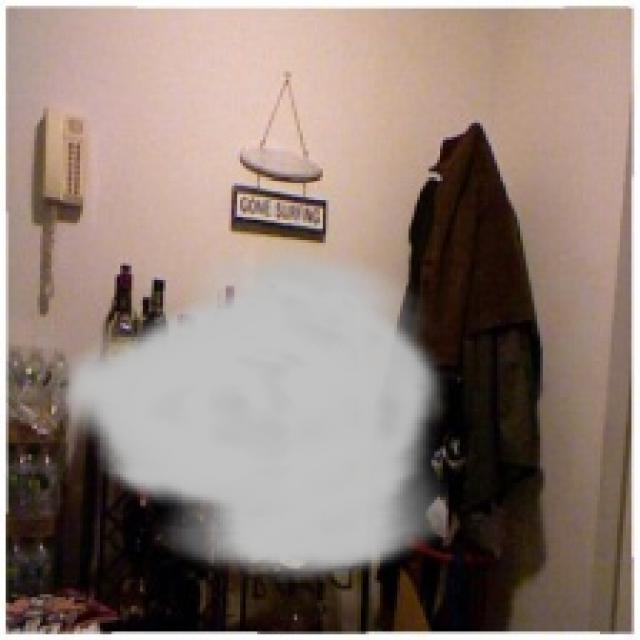smoke: (51, 240, 448, 583)
